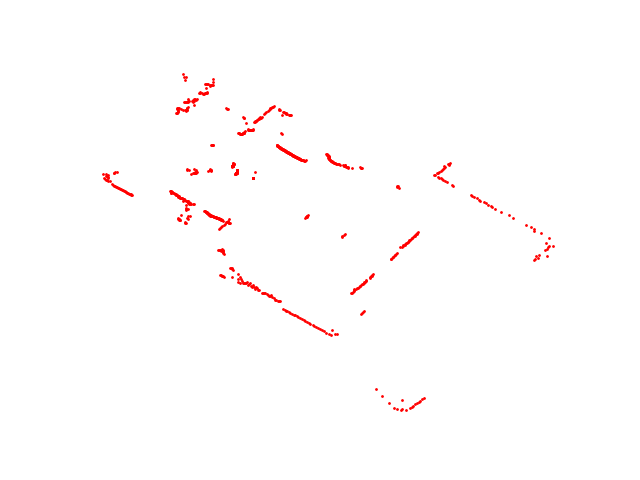person: (228, 160, 242, 178), (183, 165, 201, 178)
